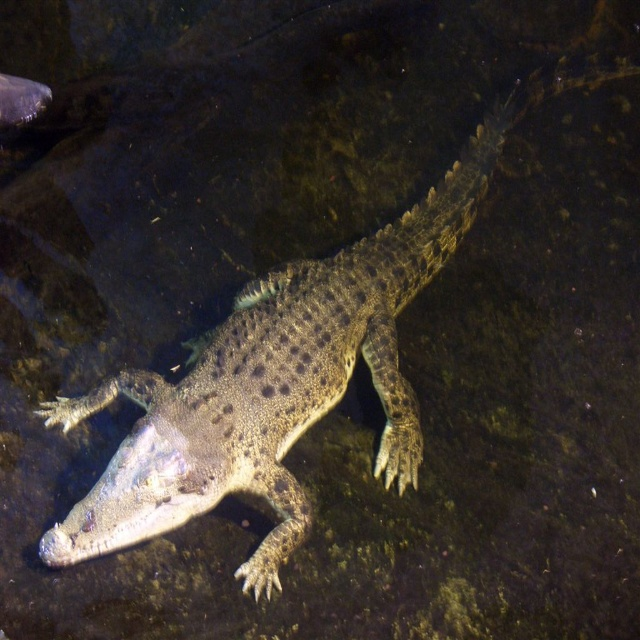Crocodile: (32, 51, 640, 604)
